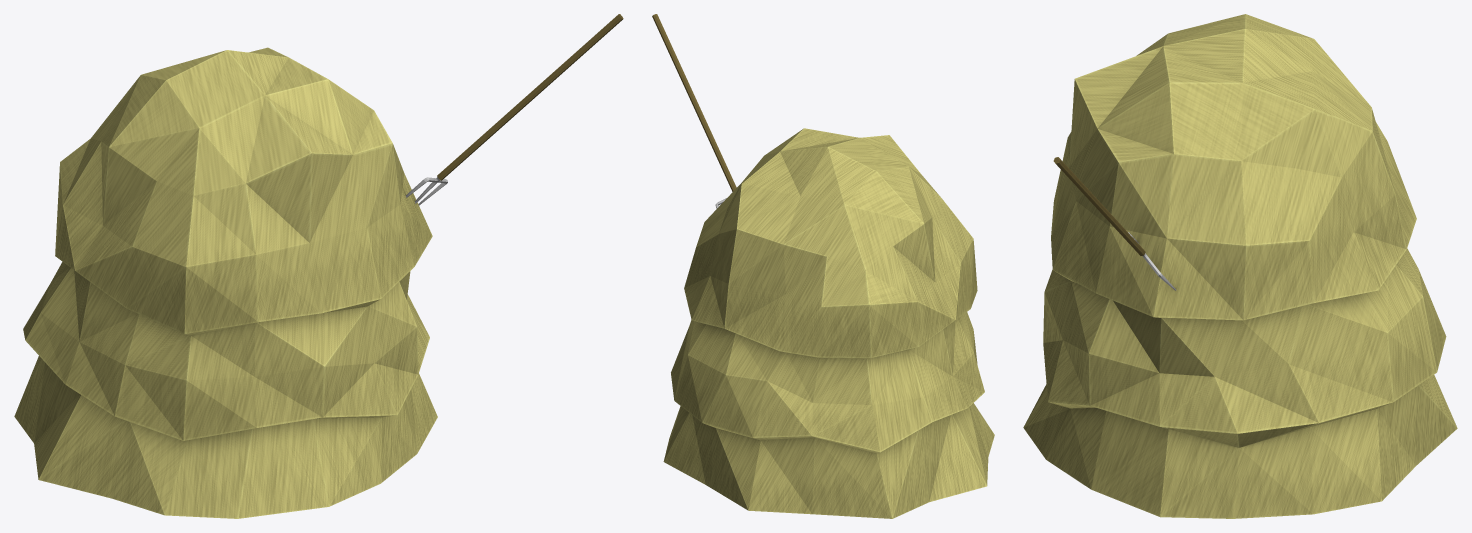
The model's file is Haystack_fixed.glb.
The picture shows the model from 3 angles, left to right: view 1: azimuth 30°, elevation 25°; view 2: azimuth 150°, elevation 25°; view 3: azimuth 270°, elevation 25°; orthographic projection. The views are drawn at different scales.
Visible parts, largest first — view 1: Haystack_mesh; view 2: Haystack_mesh; view 3: Haystack_mesh.
Boxes of the visible parts, <box> form: Haystack_mesh: <box>14,14,623,518</box>; Haystack_mesh: <box>652,14,994,518</box>; Haystack_mesh: <box>1023,14,1457,518</box>.
Bounding box in the file's own units: 6.72 × 5.21 × 4.78.
Materials: 1 (1 with a texture image).
